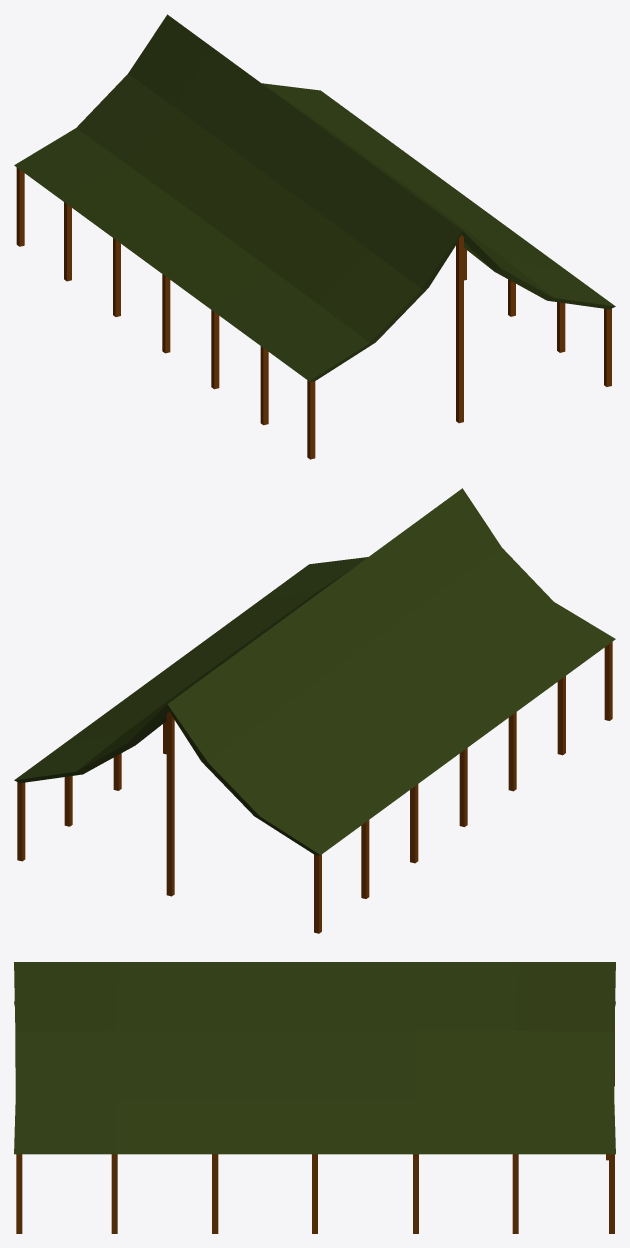
Rendered from Tent.fbx.
3 views of the same model, one above another, from view 1: azimuth 30°, elevation 25°; view 2: azimuth 150°, elevation 25°; view 3: azimuth 270°, elevation 25° (orthographic).
Visible parts, largest first — view 1: Tent; view 2: Tent; view 3: Tent.
Part boxes in pixels (<box>): Tent: <box>14,14,615,459</box>; Tent: <box>14,488,615,933</box>; Tent: <box>14,962,615,1233</box>.
Size of the model in its own units: 600 by 1000 by 361.
